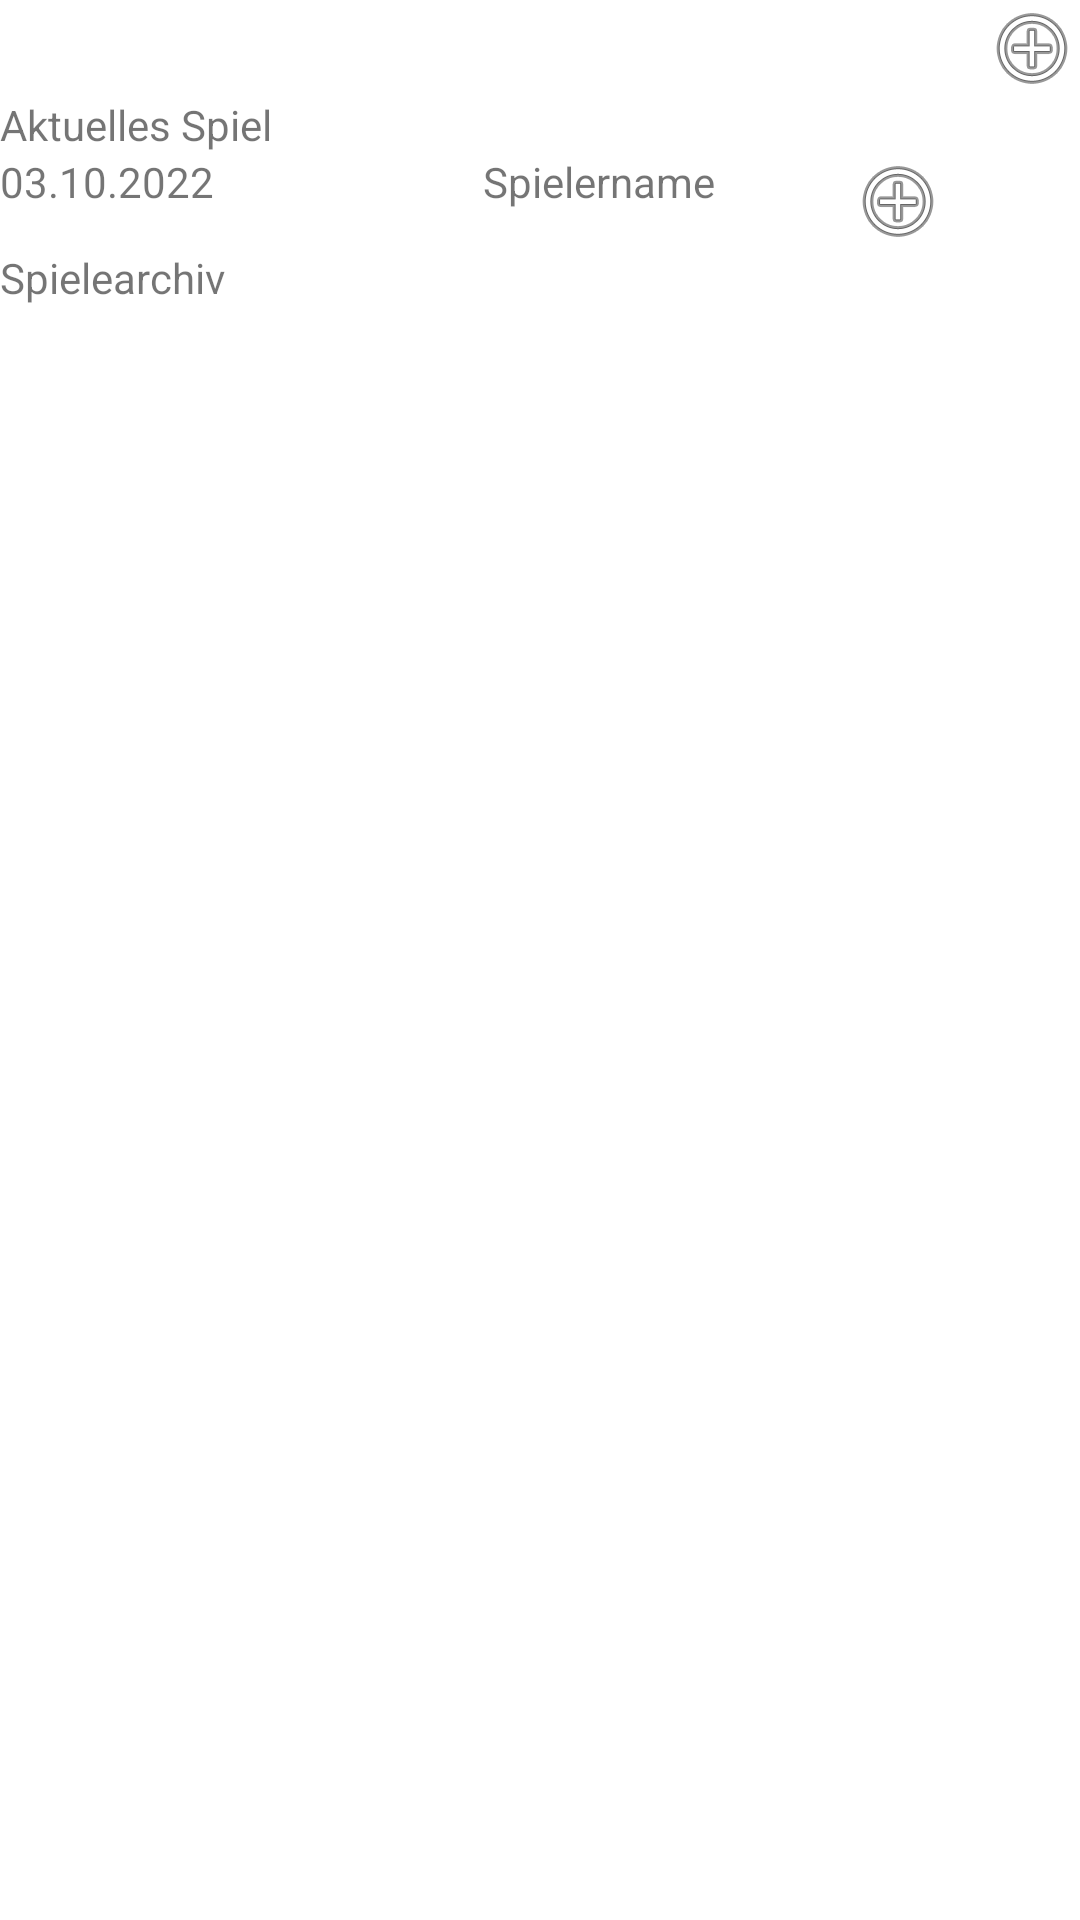

Icon bounding boxes for this 1080w x 1920h phone screenshot, format (x1, y1, x2, y2):
add: (996, 13, 1068, 84), (862, 166, 934, 237)
